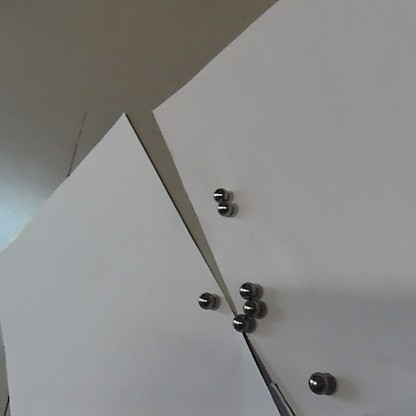ironball: (308, 372, 326, 394), (198, 290, 212, 308), (242, 299, 257, 314), (232, 315, 247, 329), (239, 282, 253, 297), (217, 199, 228, 215), (212, 187, 223, 199)
